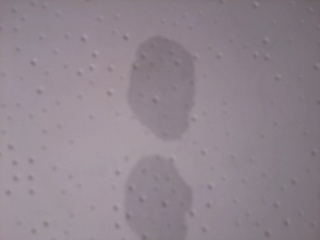Water_detected: (126, 64, 187, 223)
